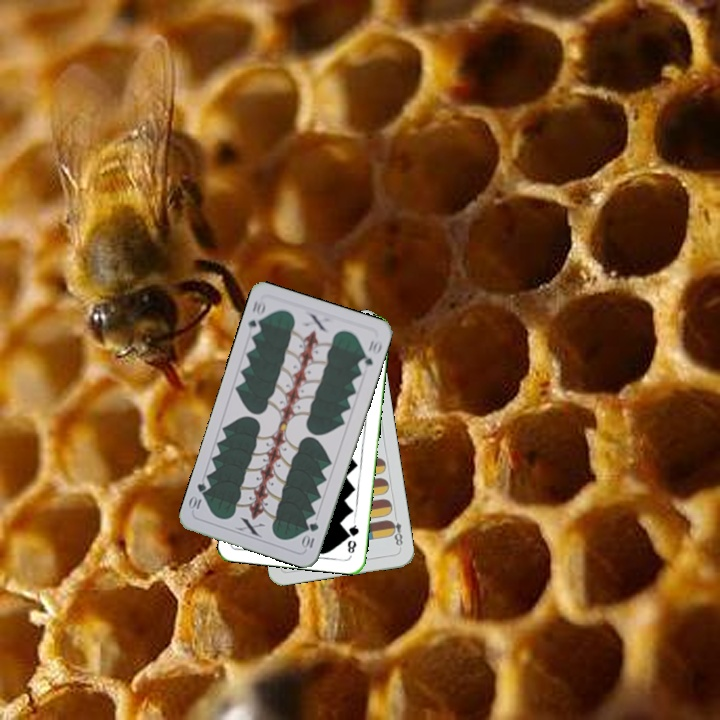E8: (385, 511, 405, 549)
G10: (244, 296, 268, 337), (299, 518, 321, 552)
G8: (343, 517, 362, 556)
